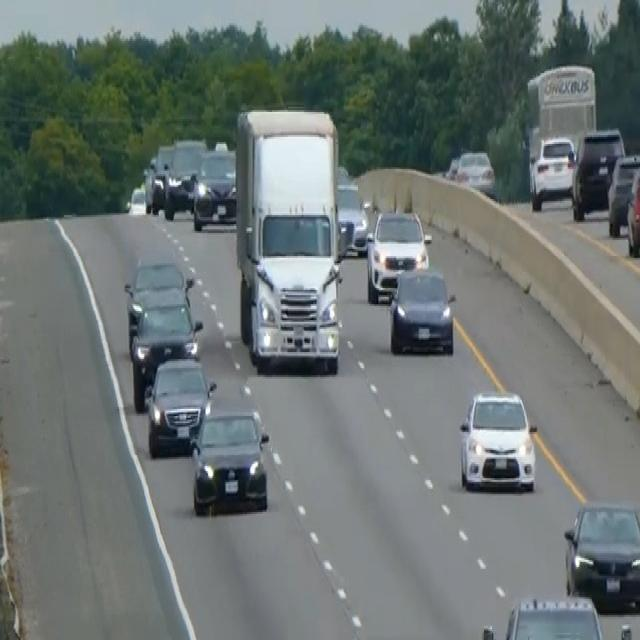car: (130, 286, 203, 411), (188, 406, 270, 516), (563, 496, 639, 610), (458, 388, 538, 492), (144, 354, 216, 457), (123, 258, 191, 354), (365, 206, 430, 302), (388, 263, 455, 356), (481, 592, 607, 638), (570, 124, 625, 220), (192, 144, 237, 229), (162, 137, 206, 219), (529, 133, 575, 210), (606, 151, 639, 237), (335, 180, 367, 252), (145, 142, 174, 212), (454, 147, 495, 195), (625, 162, 639, 256), (125, 183, 147, 215)
lorry: (233, 105, 344, 373)
